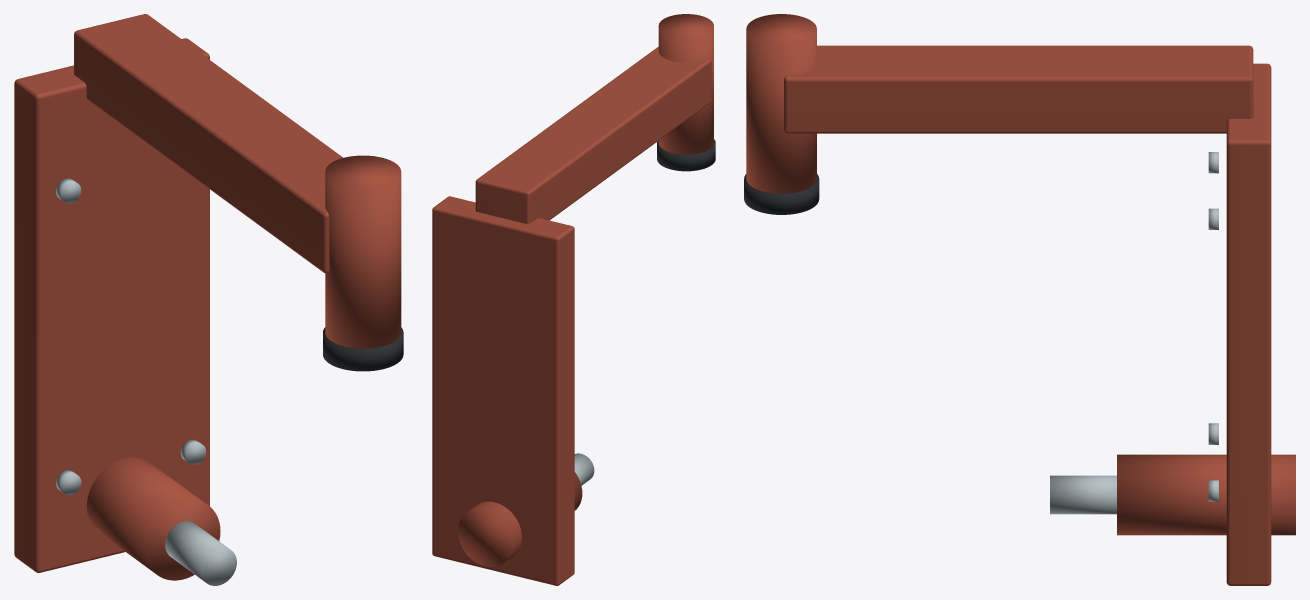
File: transom_shaft_support.glb
The picture shows the model from 3 angles, left to right: view 1: azimuth 30°, elevation 25°; view 2: azimuth 150°, elevation 25°; view 3: azimuth 270°, elevation 25°; orthographic projection. The views are drawn at different scales.
Visible parts, largest first — view 1: Transom mounting plate, Upper stock support, Stock bearing, Stern tube, Exposed shaft, Bearing seal, Mounting bolt, Mounting bolt.001, Mounting bolt.002; view 2: Transom mounting plate, Upper stock support, Stock bearing, Stern tube, Bearing seal, Exposed shaft; view 3: Upper stock support, Transom mounting plate, Stern tube, Stock bearing, Exposed shaft, Bearing seal.
Boxes of the visible parts, x1=… form: Transom mounting plate: x1=14, y1=38, x2=209, y2=572; Upper stock support: x1=74, y1=14, x2=343, y2=273; Stock bearing: x1=325, y1=155, x2=401, y2=348; Stern tube: x1=86, y1=457, x2=220, y2=580; Exposed shaft: x1=165, y1=521, x2=236, y2=585; Bearing seal: x1=323, y1=327, x2=403, y2=371; Mounting bolt: x1=56, y1=470, x2=81, y2=495; Mounting bolt.001: x1=56, y1=178, x2=81, y2=203; Mounting bolt.002: x1=180, y1=439, x2=206, y2=464; Transom mounting plate: x1=432, y1=196, x2=574, y2=585; Upper stock support: x1=475, y1=47, x2=711, y2=223; Stock bearing: x1=658, y1=14, x2=713, y2=154; Stern tube: x1=457, y1=472, x2=582, y2=567; Bearing seal: x1=657, y1=139, x2=715, y2=171; Exposed shaft: x1=574, y1=453, x2=594, y2=485; Upper stock support: x1=784, y1=45, x2=1253, y2=133; Transom mounting plate: x1=1226, y1=63, x2=1271, y2=585; Stern tube: x1=1117, y1=454, x2=1295, y2=535; Stock bearing: x1=746, y1=14, x2=816, y2=193; Exposed shaft: x1=1050, y1=475, x2=1116, y2=514; Bearing seal: x1=744, y1=174, x2=819, y2=214.
Size of the model in its own units: 0.42 by 1.28 by 1.23.
